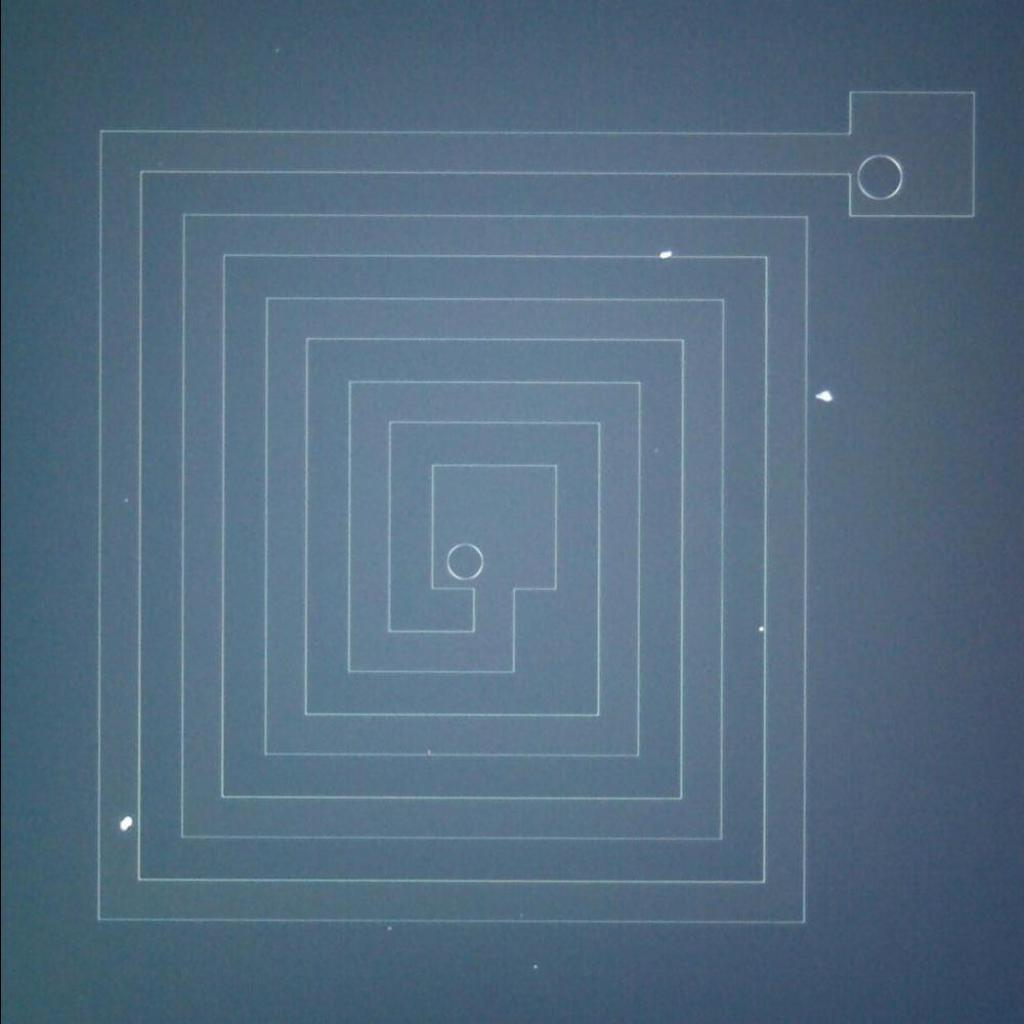circle: (851, 148, 909, 204), (443, 542, 489, 584)
dot: (745, 607, 775, 648)
spot: (110, 810, 136, 838), (651, 244, 678, 267), (812, 383, 837, 407)
